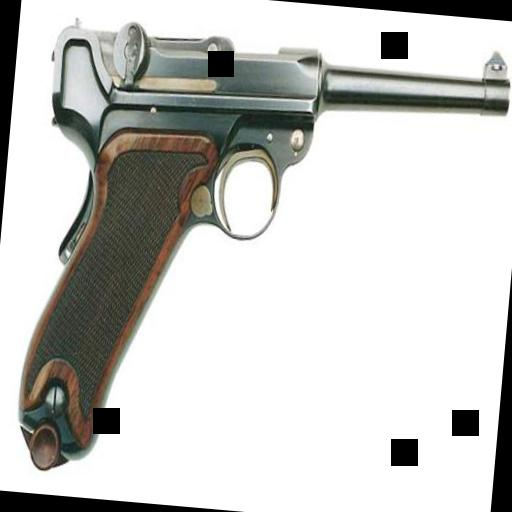Handgun: (2, 6, 512, 498)
